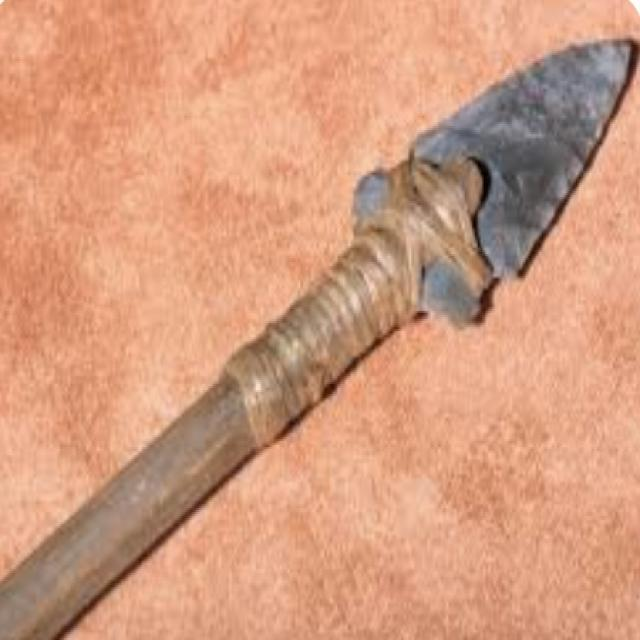spear: (7, 26, 636, 620)
